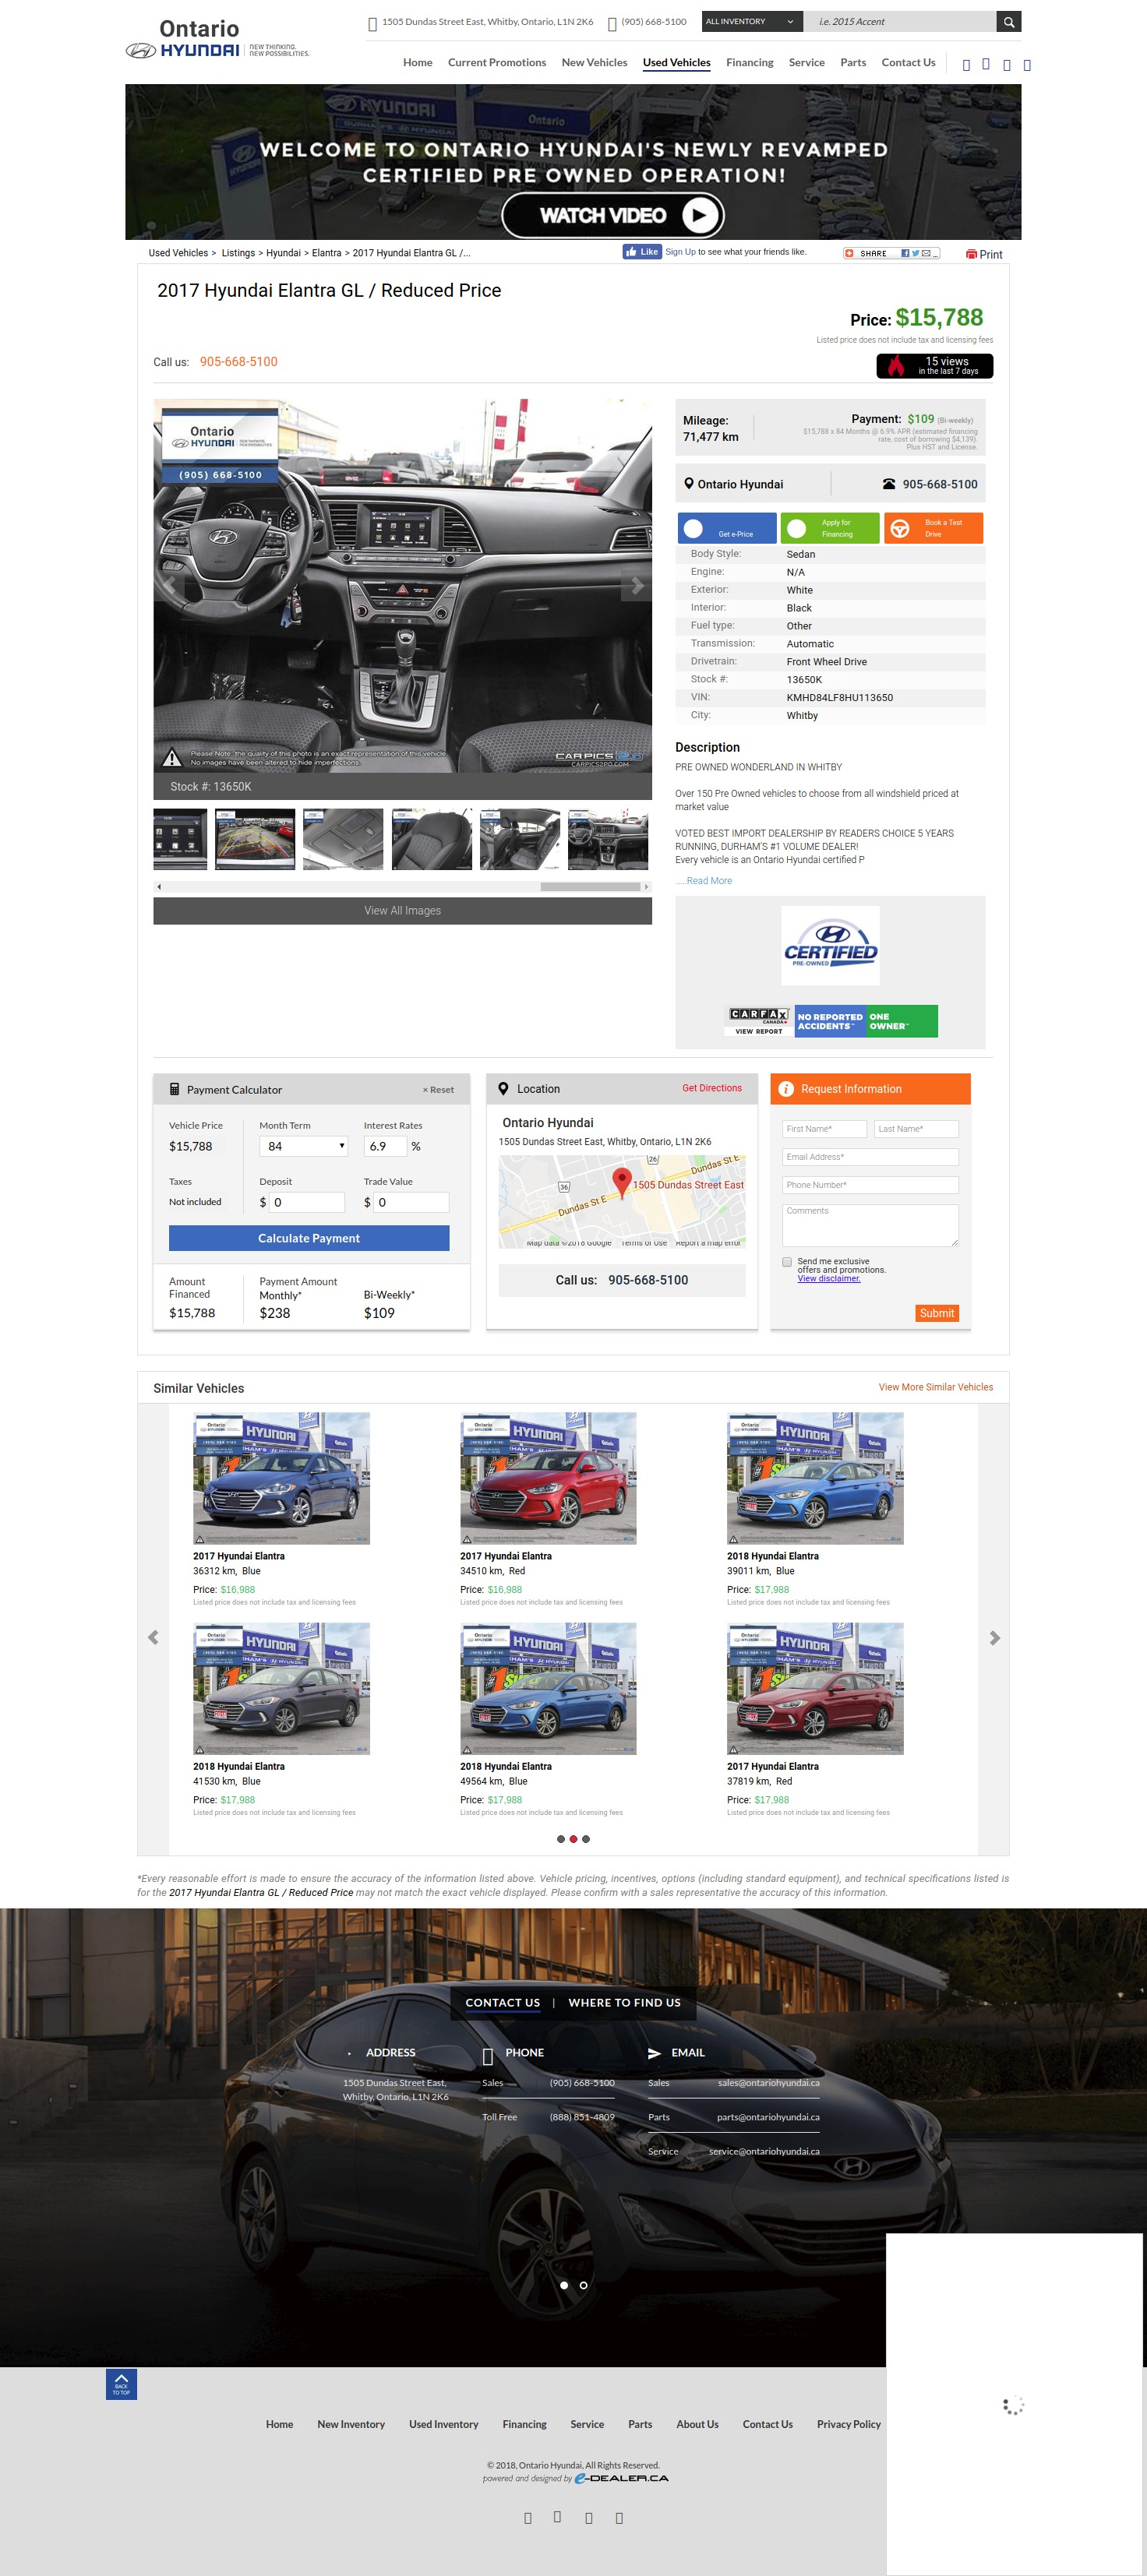car: (644, 884, 649, 890)
